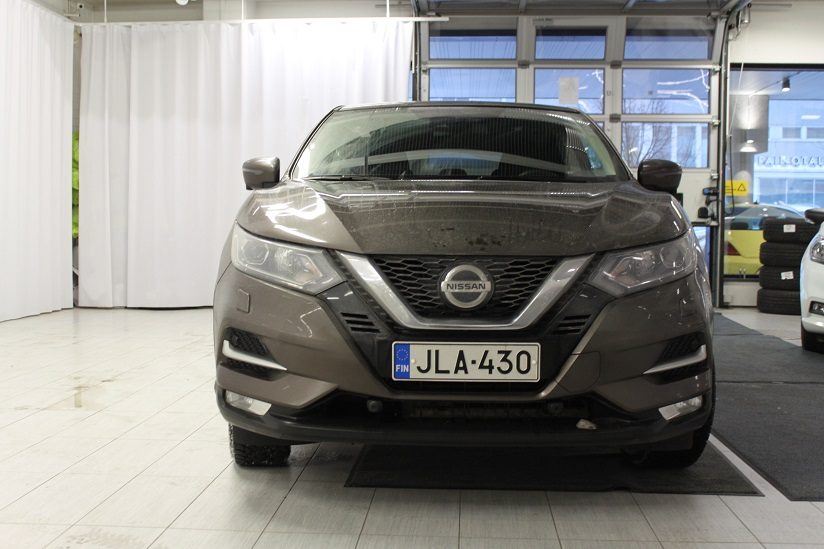license: (388, 339, 539, 385)
